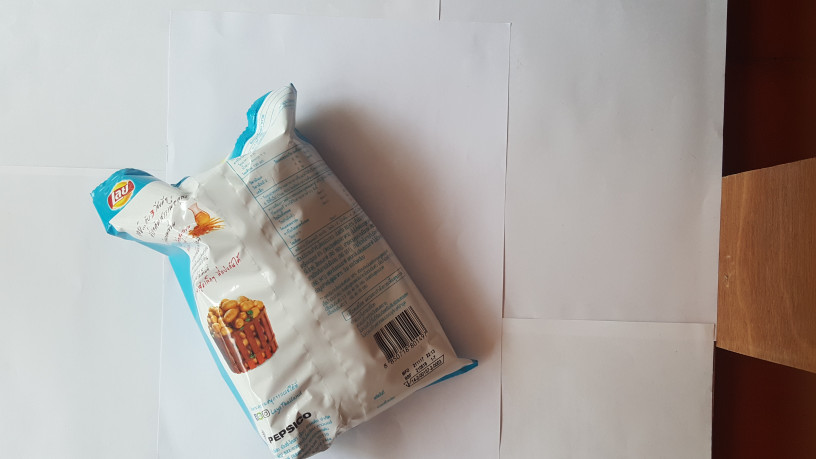lays-onion: (86, 98, 482, 459)
